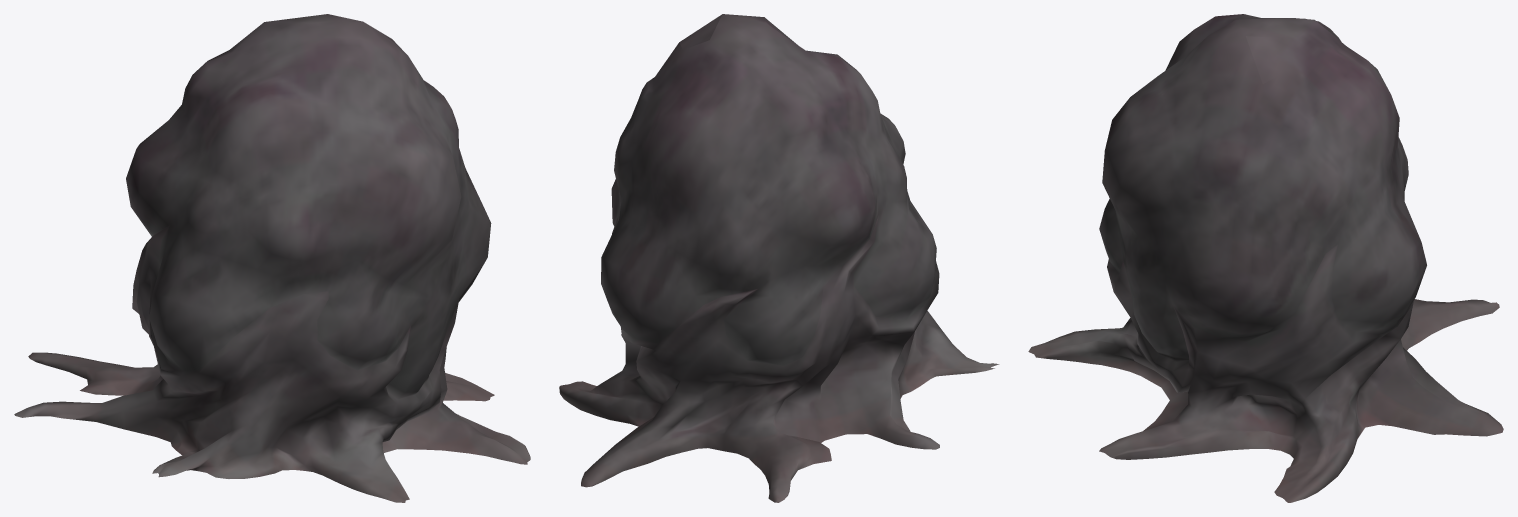
The model's file is Cocoon (37).fbx.
3 views of the same model, side by side, from view 1: azimuth 30°, elevation 25°; view 2: azimuth 150°, elevation 25°; view 3: azimuth 270°, elevation 25° (orthographic). The views are drawn at different scales.
Visible parts, largest first — view 1: Egg; view 2: Egg; view 3: Egg.
Part boxes in pixels (left/top/right/bottom): Egg: left=14, top=14, right=530, bottom=502; Egg: left=559, top=14, right=999, bottom=502; Egg: left=1028, top=14, right=1503, bottom=502.
Size of the model in its own units: 0.8169 by 0.7464 by 0.8103.
1 material, 1 textured.
